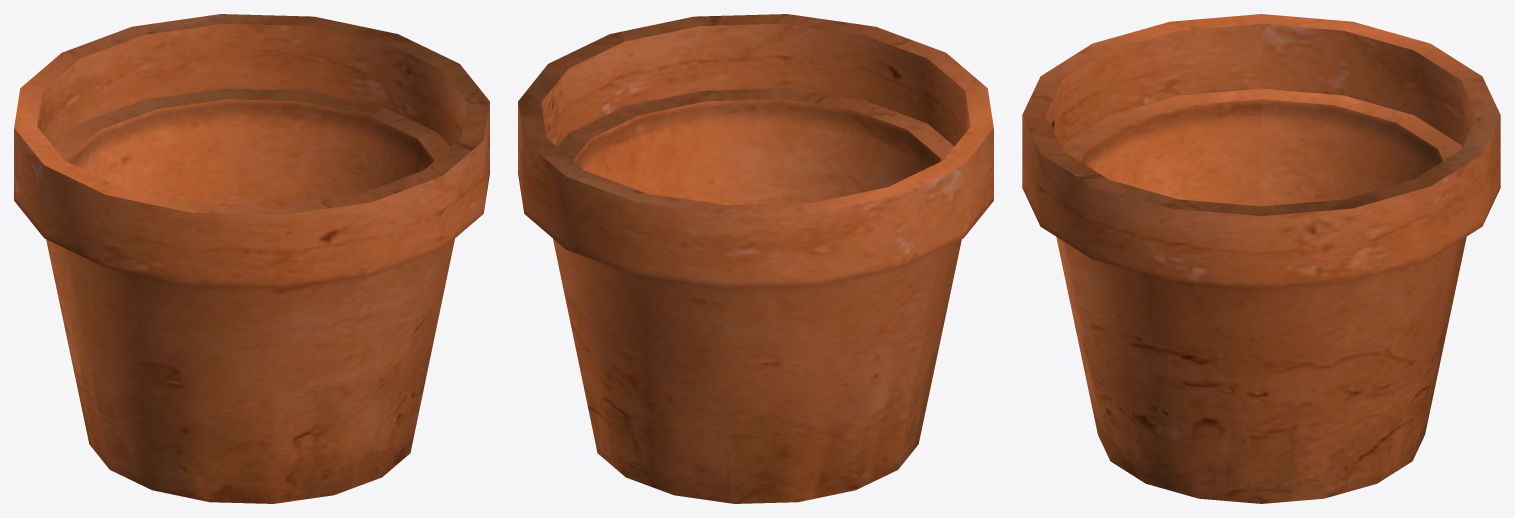
Rendered from flowerpot_empty01.glb.
3 renders of one model, left to right at view 1: azimuth 30°, elevation 25°; view 2: azimuth 150°, elevation 25°; view 3: azimuth 270°, elevation 25°, orthographic.
Parts seen in each view (by area): view 1: flowerpot_empty01; view 2: flowerpot_empty01; view 3: flowerpot_empty01.
Part boxes in pixels (left/top/right/bottom): flowerpot_empty01: left=14, top=14, right=489, bottom=503; flowerpot_empty01: left=518, top=14, right=993, bottom=503; flowerpot_empty01: left=1022, top=14, right=1500, bottom=503.
Bounding box in the file's own units: 0.3431 × 0.253 × 0.3431.
1 material, 1 textured.
